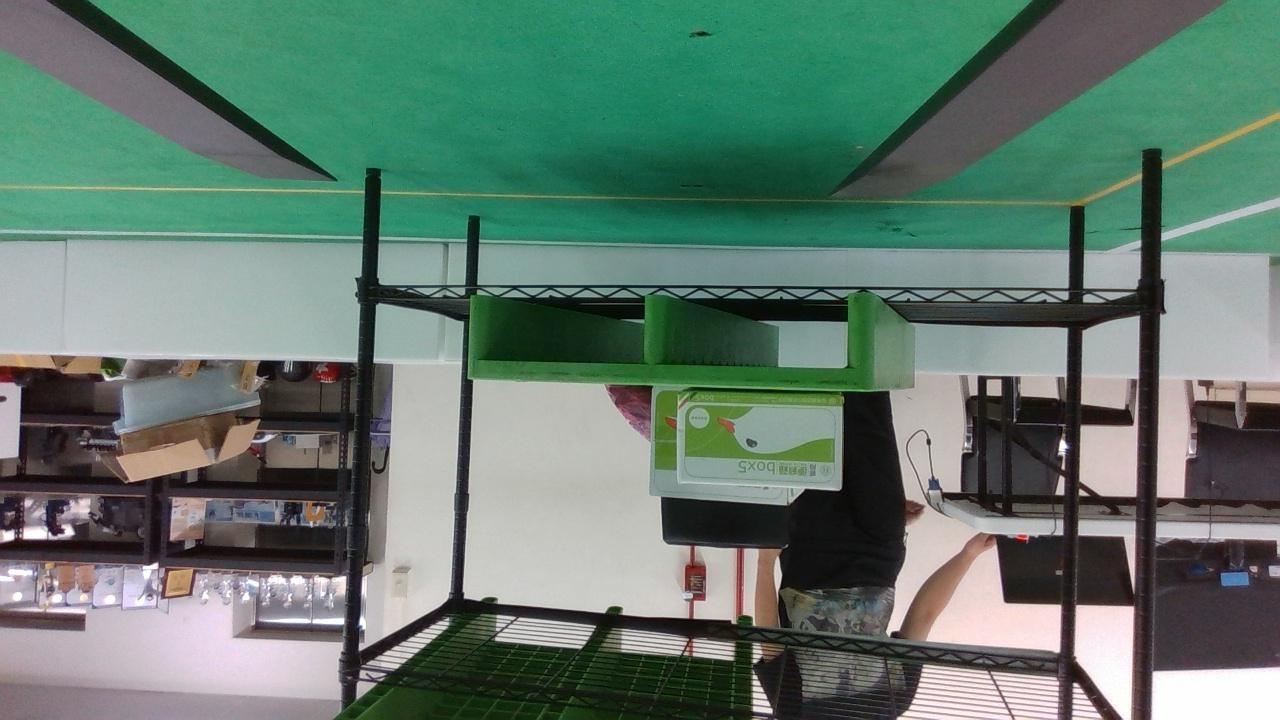Pallet: (463, 291, 879, 391)
